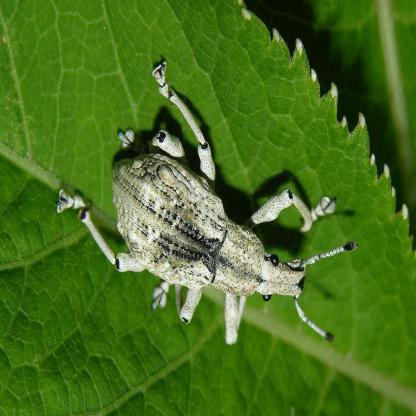ash weevil: (54, 65, 358, 345)
